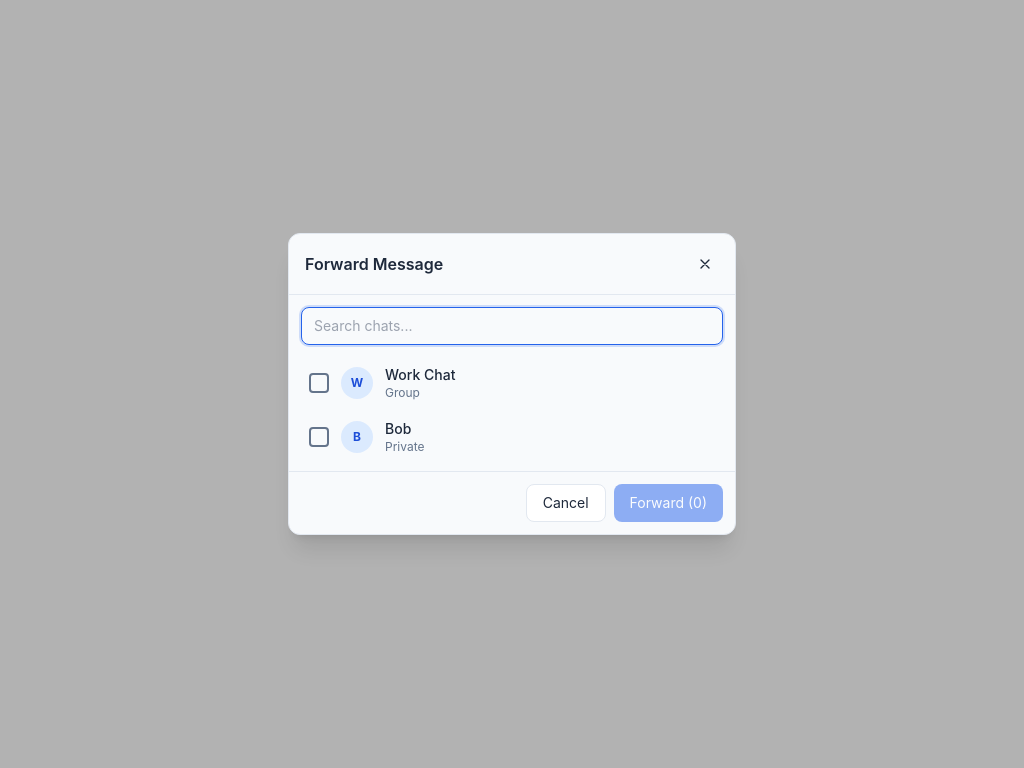
Test: ForwardModal › FORWARD-WEB-03: should filter sessions by search
Step 1. Type "Work" into the field with placeholder "Search chats..." → (512, 326), box [301, 307, 723, 345]
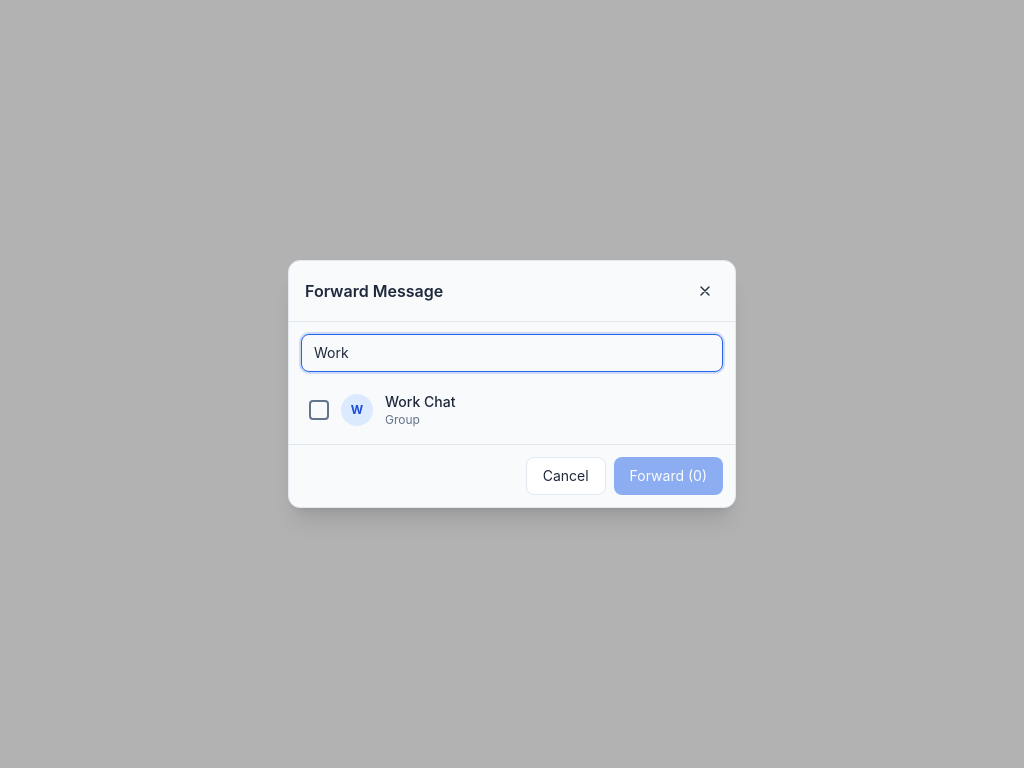
Expected: the text "Work Chat" is shown, [385, 393, 455, 410]
Expected: the button "Bob" is gone
